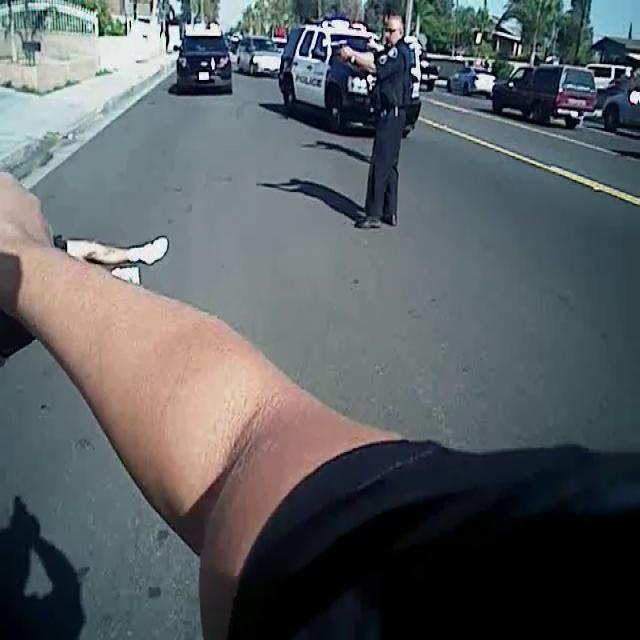gun: (317, 26, 357, 66)
